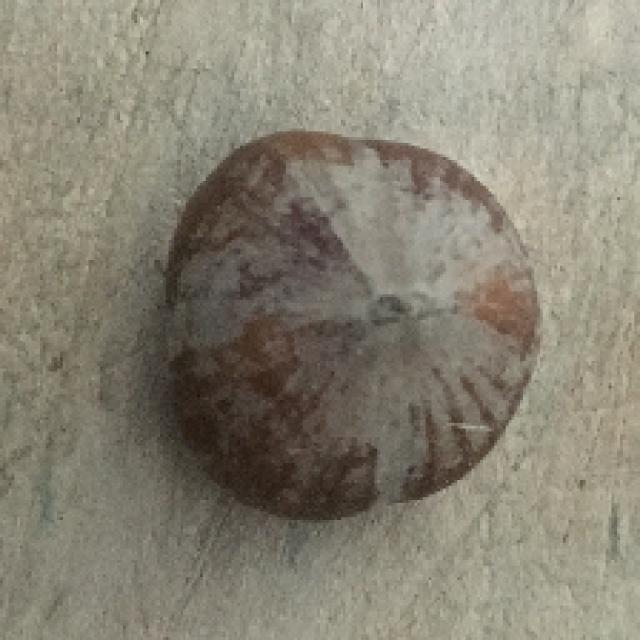QualityHazelnut: (164, 126, 544, 526)
